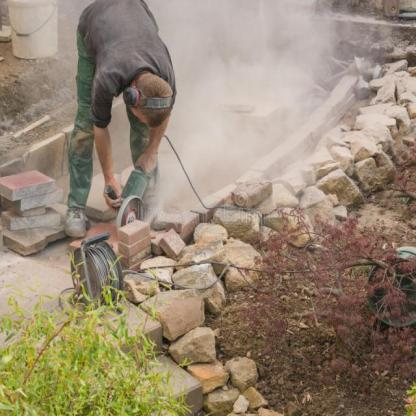bota: (62, 204, 90, 241)
